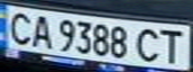3: (72, 19, 93, 55)
8: (109, 24, 133, 60), (90, 20, 112, 57)
9: (51, 16, 78, 53)
A: (27, 12, 57, 48)
C: (0, 8, 39, 46), (133, 25, 166, 63)
T: (157, 26, 190, 64)
